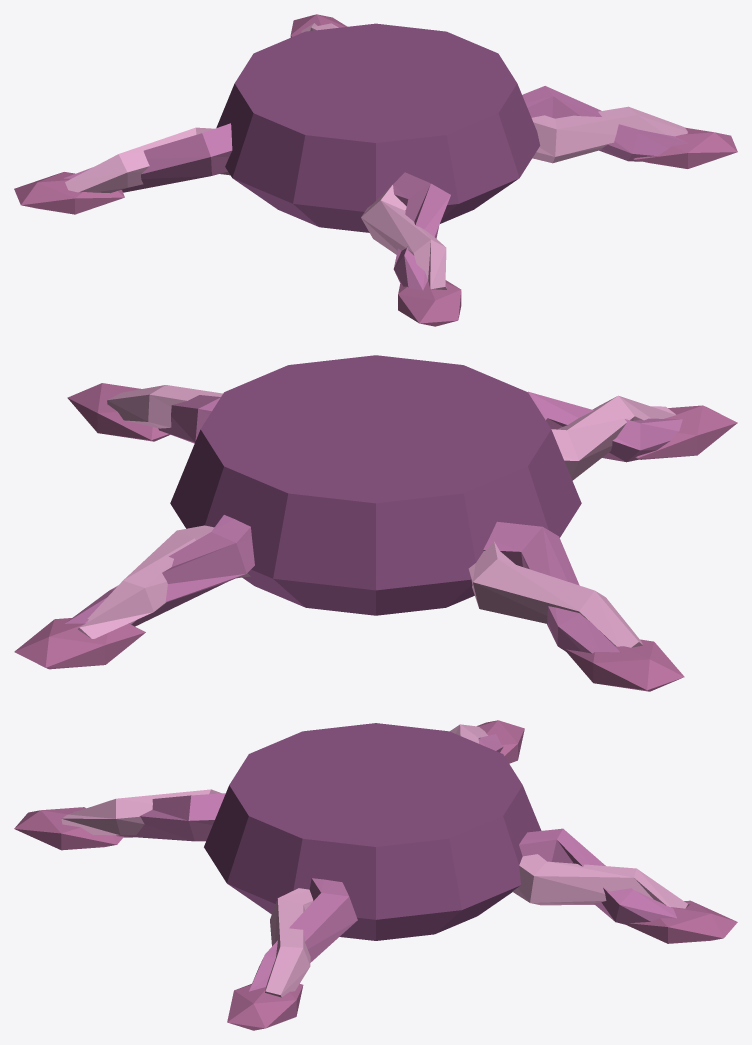
The model's file is OrchidTetherRoots.obj.
The picture shows the model from 3 angles, top to bottom: view 1: azimuth 30°, elevation 25°; view 2: azimuth 150°, elevation 25°; view 3: azimuth 270°, elevation 25°; orthographic projection. The views are drawn at different scales.
Visible parts, largest first — view 1: OrchidTetherRoots_OrchidTetherCrown, OrchidTetherRoots_OrchidTetherTwists, OrchidTetherRoots_OrchidTethers, OrchidTetherRoots_OrchidRootPads; view 2: OrchidTetherRoots_OrchidTetherCrown, OrchidTetherRoots_OrchidTetherTwists, OrchidTetherRoots_OrchidTethers, OrchidTetherRoots_OrchidRootPads; view 3: OrchidTetherRoots_OrchidTetherCrown, OrchidTetherRoots_OrchidTetherTwists, OrchidTetherRoots_OrchidTethers, OrchidTetherRoots_OrchidRootPads.
Part boxes in pixels (left/top/right/bottom): OrchidTetherRoots_OrchidTetherCrown: left=216, top=23, right=540, bottom=232; OrchidTetherRoots_OrchidTetherTwists: left=65, top=23, right=687, bottom=289; OrchidTetherRoots_OrchidTethers: left=64, top=86, right=687, bottom=290; OrchidTetherRoots_OrchidRootPads: left=14, top=14, right=737, bottom=326; OrchidTetherRoots_OrchidTetherCrown: left=170, top=355, right=581, bottom=615; OrchidTetherRoots_OrchidTetherTwists: left=78, top=385, right=675, bottom=647; OrchidTetherRoots_OrchidTethers: left=64, top=391, right=682, bottom=653; OrchidTetherRoots_OrchidRootPads: left=14, top=383, right=737, bottom=691; OrchidTetherRoots_OrchidTetherCrown: left=204, top=723, right=541, bottom=940; OrchidTetherRoots_OrchidTetherTwists: left=61, top=724, right=689, bottom=997; OrchidTetherRoots_OrchidTethers: left=71, top=734, right=676, bottom=991; OrchidTetherRoots_OrchidRootPads: left=14, top=720, right=737, bottom=1030.
Size of the model in its own units: 3.7 by 0.6 by 3.7.
